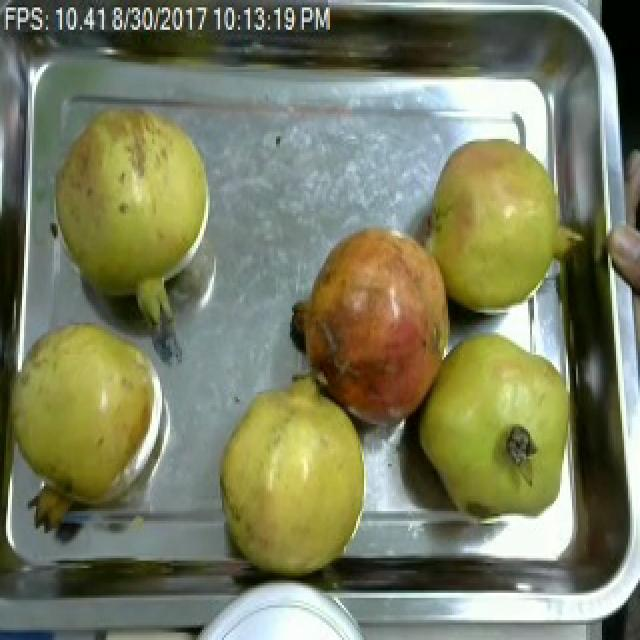fruit: (280, 211, 462, 444), (0, 305, 176, 533), (208, 360, 380, 588), (46, 97, 220, 310), (408, 322, 580, 531), (420, 129, 576, 322)
